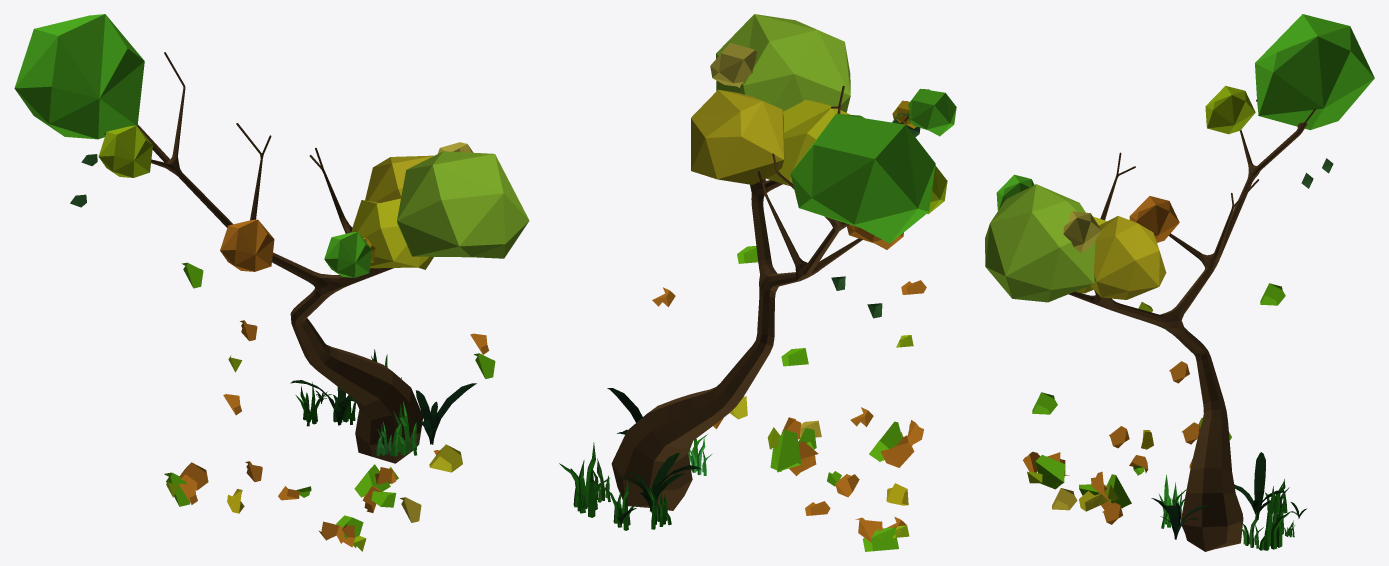
The model's file is tree-5.FBX.
The picture shows the model from 3 angles, left to right: view 1: azimuth 30°, elevation 25°; view 2: azimuth 150°, elevation 25°; view 3: azimuth 270°, elevation 25°; orthographic projection. The views are drawn at different scales.
Visible parts, largest first — view 1: Icosphere.007; view 2: Icosphere.007; view 3: Icosphere.007.
Boxes of the visible parts, box(x1,y1,x2,y2) form: Icosphere.007: box(14, 14, 529, 551); Icosphere.007: box(559, 14, 956, 551); Icosphere.007: box(985, 14, 1374, 551).
Bounding box in the file's own units: 1392 × 1624 × 1389.
